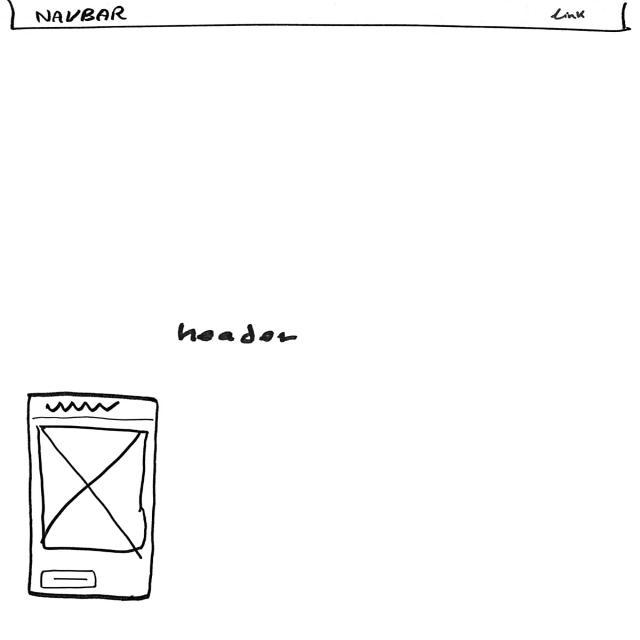container: (25, 390, 162, 603), (6, 0, 628, 34)
icon-button: (38, 568, 100, 589)
image: (37, 423, 149, 553)
label: (175, 324, 298, 347), (34, 4, 128, 23), (550, 7, 588, 23)
text: (43, 401, 122, 414)
